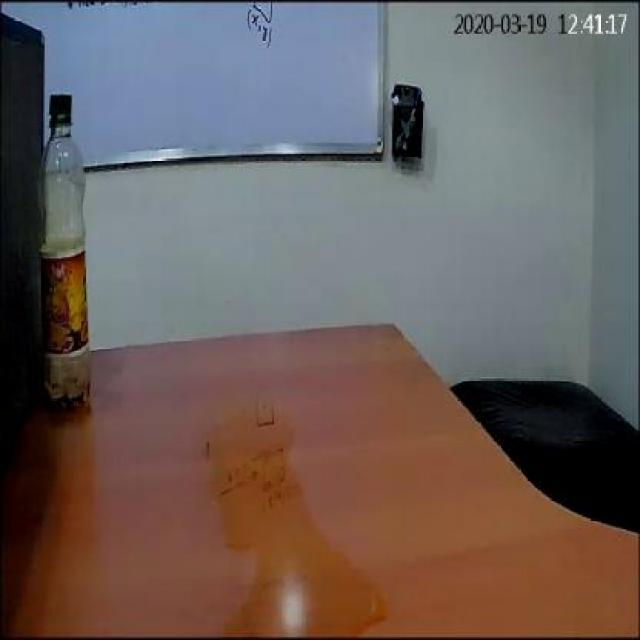spill: (198, 400, 384, 636)
